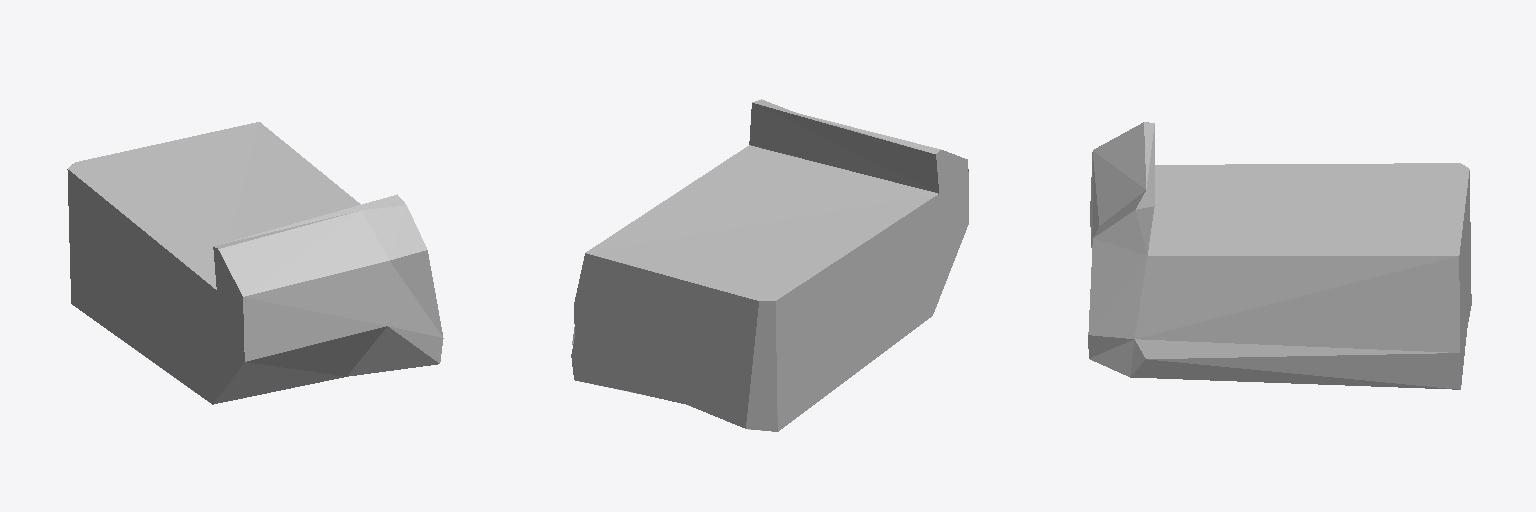
The model's file is BrokenBasePart2.obj.
The picture shows the model from 3 angles: view 1: azimuth 30°, elevation 25°; view 2: azimuth 150°, elevation 25°; view 3: azimuth 270°, elevation 25°; orthographic projection.
Visible parts, largest first — view 1: Chassis-Lvl1-Base.006_Chassis-Lvl1_Cube.000_cell.003_Chassis-Lvl; view 2: Chassis-Lvl1-Base.006_Chassis-Lvl1_Cube.000_cell.003_Chassis-Lvl; view 3: Chassis-Lvl1-Base.006_Chassis-Lvl1_Cube.000_cell.003_Chassis-Lvl.
Part boxes in pixels (bbox=[...]): Chassis-Lvl1-Base.006_Chassis-Lvl1_Cube.000_cell.003_Chassis-Lvl: bbox=[67, 122, 443, 404]; Chassis-Lvl1-Base.006_Chassis-Lvl1_Cube.000_cell.003_Chassis-Lvl: bbox=[571, 99, 968, 431]; Chassis-Lvl1-Base.006_Chassis-Lvl1_Cube.000_cell.003_Chassis-Lvl: bbox=[1088, 122, 1471, 389].
Bounding box in the file's own units: 1.38 × 1.09 × 2.15.